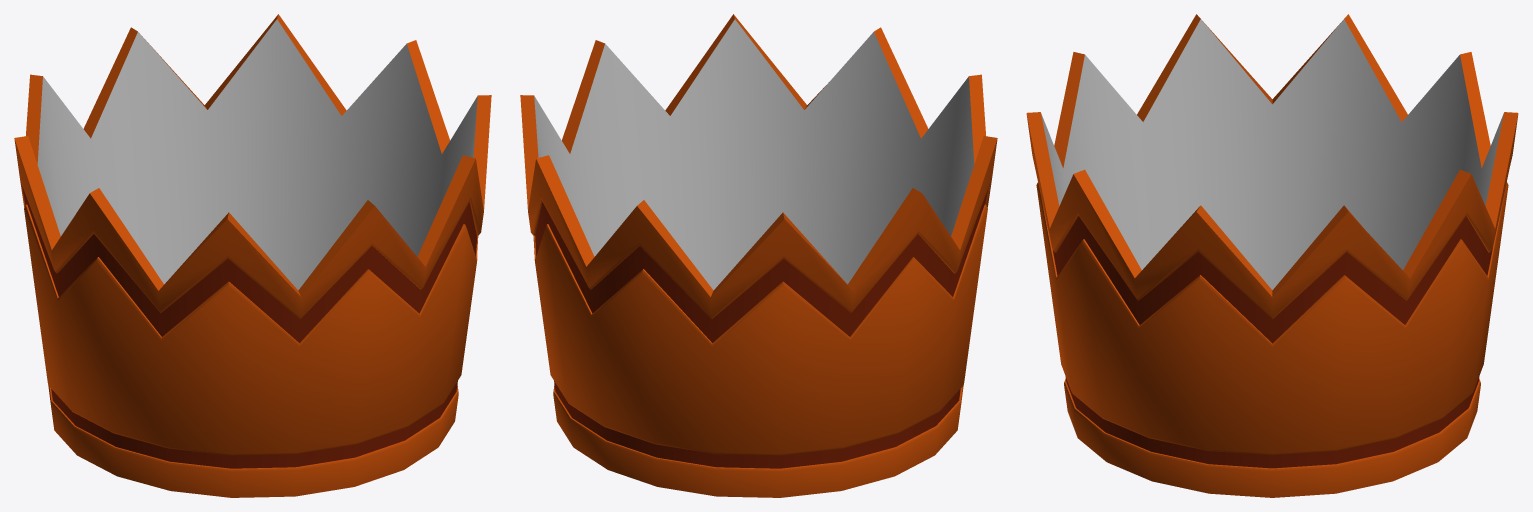
File: Crown.fbx
The picture shows the model from 3 angles, left to right: view 1: azimuth 30°, elevation 25°; view 2: azimuth 150°, elevation 25°; view 3: azimuth 270°, elevation 25°; orthographic projection.
Parts seen in each view (by area): view 1: Crown; view 2: Crown; view 3: Crown.
Boxes of the visible parts, x1=… form: Crown: x1=14, y1=14, x2=491, y2=497; Crown: x1=520, y1=14, x2=997, y2=497; Crown: x1=1026, y1=14, x2=1518, y2=497.
Bounding box in the file's own units: 60.27 × 42.5 × 63.3.
